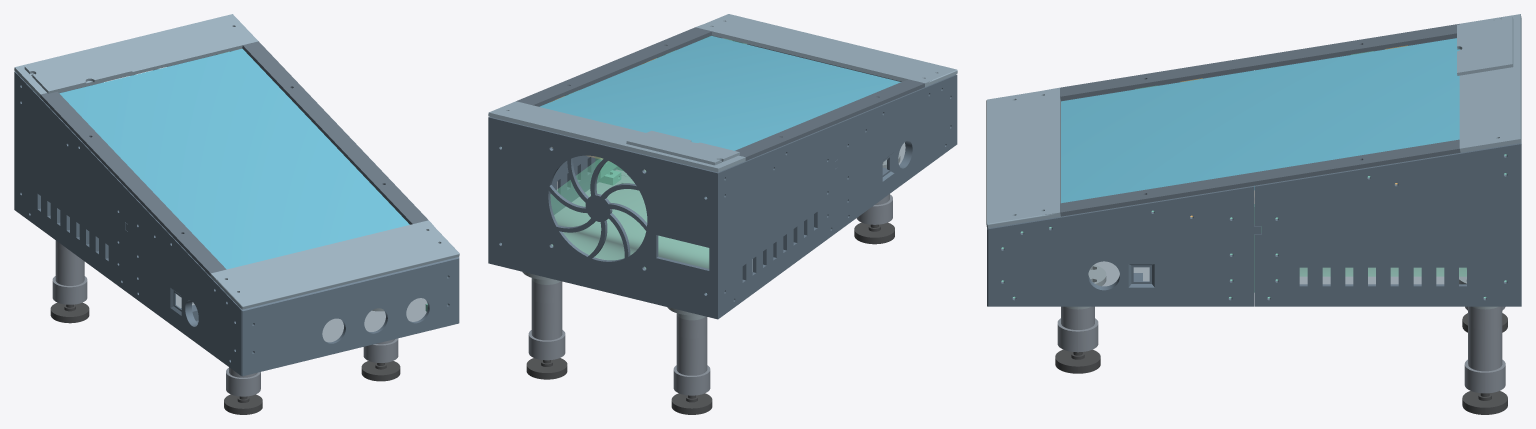
File: cabinet-v1_13.glb
3 views of the same model, side by side, from view 1: azimuth 30°, elevation 25°; view 2: azimuth 150°, elevation 25°; view 3: azimuth 270°, elevation 25° (orthographic). The views are drawn at different scales.
Visible parts, largest first — view 1: REFERENCE_Monitor, left_rear_wall, front_button_panel, left_front_wall, front_cable_lid, rear_control_deck, bezel_right_a1_a2, bezel_left_one_piece, control_hatch, bottom_front, foot_extension_left_rear_2_40mm, foot_terminal_left_rear (+5 smaller); view 2: rear_vent_panel, REFERENCE_Monitor, left_rear_wall, left_front_wall, front_cable_lid, REFERENCE_Dell_3050, bottom_rear, rear_control_deck, bezel_right_a1_a2, bezel_left_one_piece, right_rear_wall, control_hatch (+10 smaller); view 3: REFERENCE_Monitor, right_rear_wall, right_front_wall, front_cable_lid, bezel_right_a1_a2, bezel_left_one_piece, rear_control_deck, control_hatch, foot_extension_right_rear_2_40mm, bottom_rear, foot_terminal_right_rear, foot_terminal_right_front (+6 smaller).
Boxes of the visible parts, box(x1,y1,x2,y2) form: REFERENCE_Monitor: box(59, 48, 409, 269); left_rear_wall: box(14, 71, 128, 292); front_button_panel: box(244, 257, 456, 375); left_front_wall: box(125, 191, 245, 376); front_cable_lid: box(210, 220, 459, 309); rear_control_deck: box(14, 14, 258, 97); bezel_right_a1_a2: box(242, 41, 428, 224); bezel_left_one_piece: box(40, 91, 226, 275); control_hatch: box(24, 46, 132, 93); bottom_front: box(176, 294, 427, 342); foot_extension_left_rear_2_40mm: box(55, 246, 84, 285); foot_terminal_left_rear: box(52, 276, 87, 304); rear_vent_panel: box(491, 117, 715, 318); REFERENCE_Monitor: box(539, 36, 900, 150); left_rear_wall: box(714, 123, 837, 319); left_front_wall: box(835, 74, 957, 231); front_cable_lid: box(696, 14, 957, 86); REFERENCE_Dell_3050: box(550, 158, 709, 268); bottom_rear: box(554, 175, 752, 271); rear_control_deck: box(488, 101, 745, 172); bezel_right_a1_a2: box(516, 27, 712, 106); bezel_left_one_piece: box(735, 79, 924, 160); right_rear_wall: box(488, 76, 611, 263); control_hatch: box(626, 130, 739, 165); REFERENCE_Monitor: box(1061, 38, 1459, 203); right_rear_wall: box(1254, 143, 1521, 306); right_front_wall: box(987, 186, 1260, 306); front_cable_lid: box(986, 87, 1060, 228); bezel_right_a1_a2: box(1060, 139, 1460, 216); bezel_left_one_piece: box(1060, 24, 1459, 100); rear_control_deck: box(1459, 14, 1521, 152); control_hatch: box(1457, 16, 1513, 75); foot_extension_right_rear_2_40mm: box(1468, 323, 1502, 371); bottom_rear: box(1299, 267, 1460, 284); foot_terminal_right_rear: box(1464, 359, 1505, 393); foot_terminal_right_front: box(1057, 318, 1098, 352).
Size of the model in its own units: 0.26 by 0.2826 by 0.4705.
